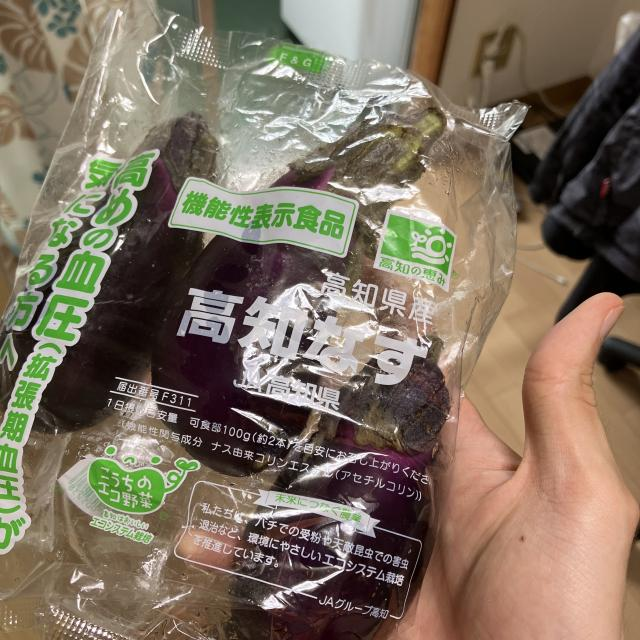eggplant: (145, 91, 452, 480), (0, 109, 222, 439), (228, 332, 457, 640)
